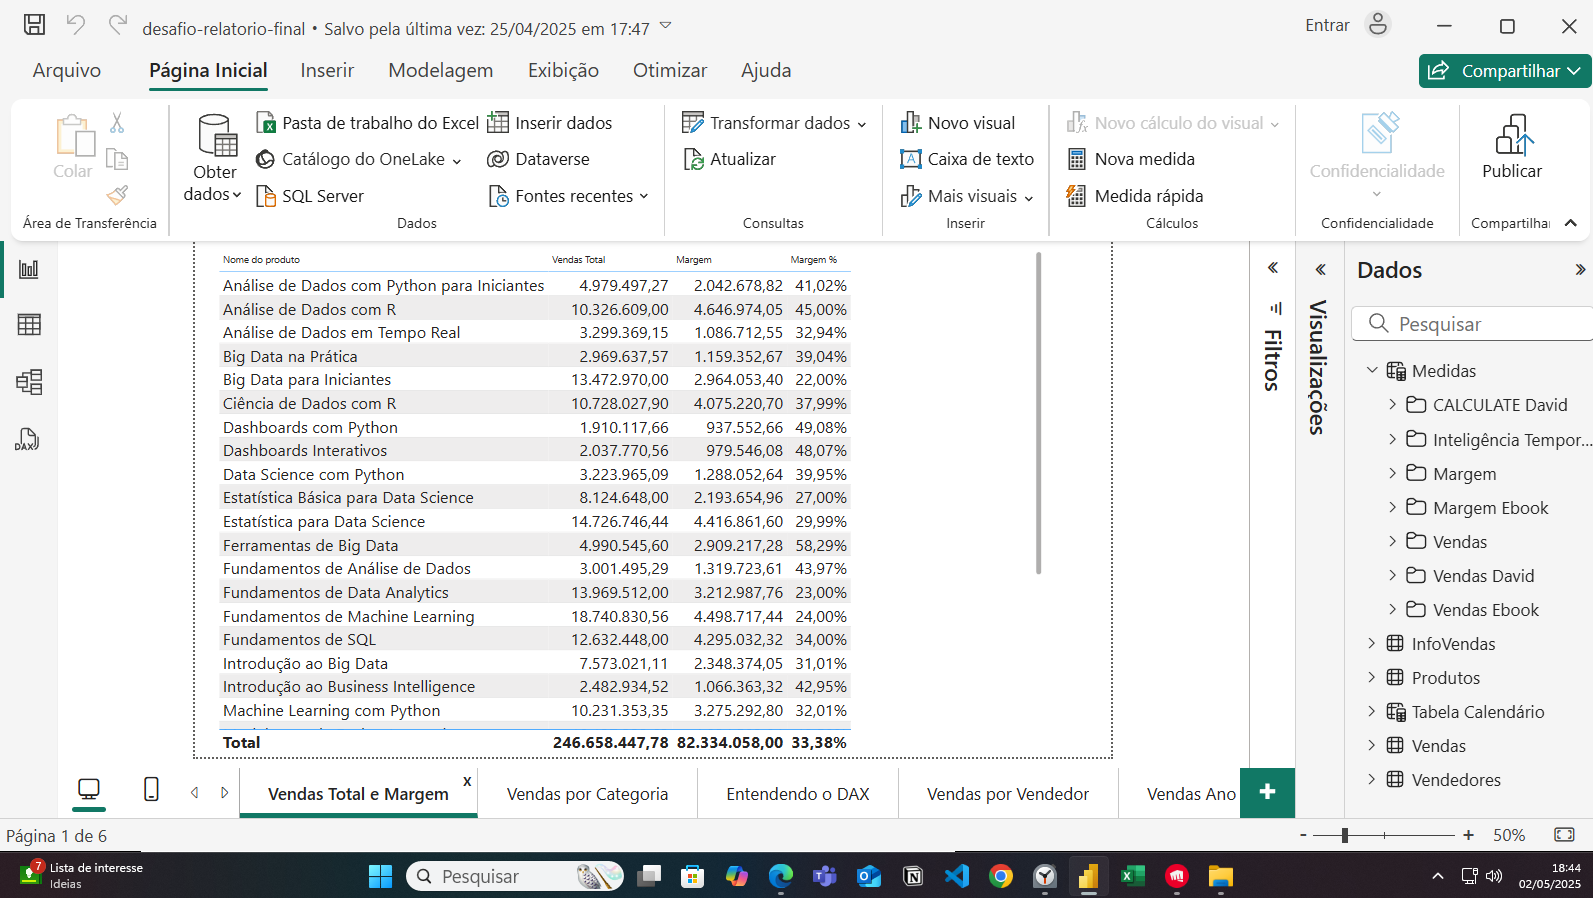

The dashboard page shown, as its layout file describes it:
{"tool":"powerbi","page":{"name":"Vendas Total e Margem","canvas":[1280,720],"ordinal":0},"visuals":[{"type":"tableEx","fields":{"Values":["Produtos.Nome do produto","Medidas.Vendas Total","Medidas.Margem","Medidas.Margem %"]},"box":[27.6,9.6,1160.1,709.5],"z":0}]}

Visuals, with their boxes on the page's 1280x720 design canvas (x1, y1, x2, y2). These are canvas units, not pixel positions in the 1593x898 screenshot, which may show the page scaled, cropped or inside an application window:
tableEx - Produtos.Nome do produto x Medidas.Vendas Total: [28, 10, 1188, 719]
